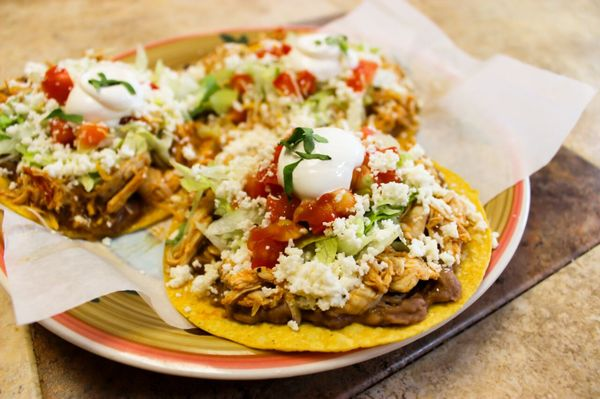sandwich: (1, 26, 558, 355)
